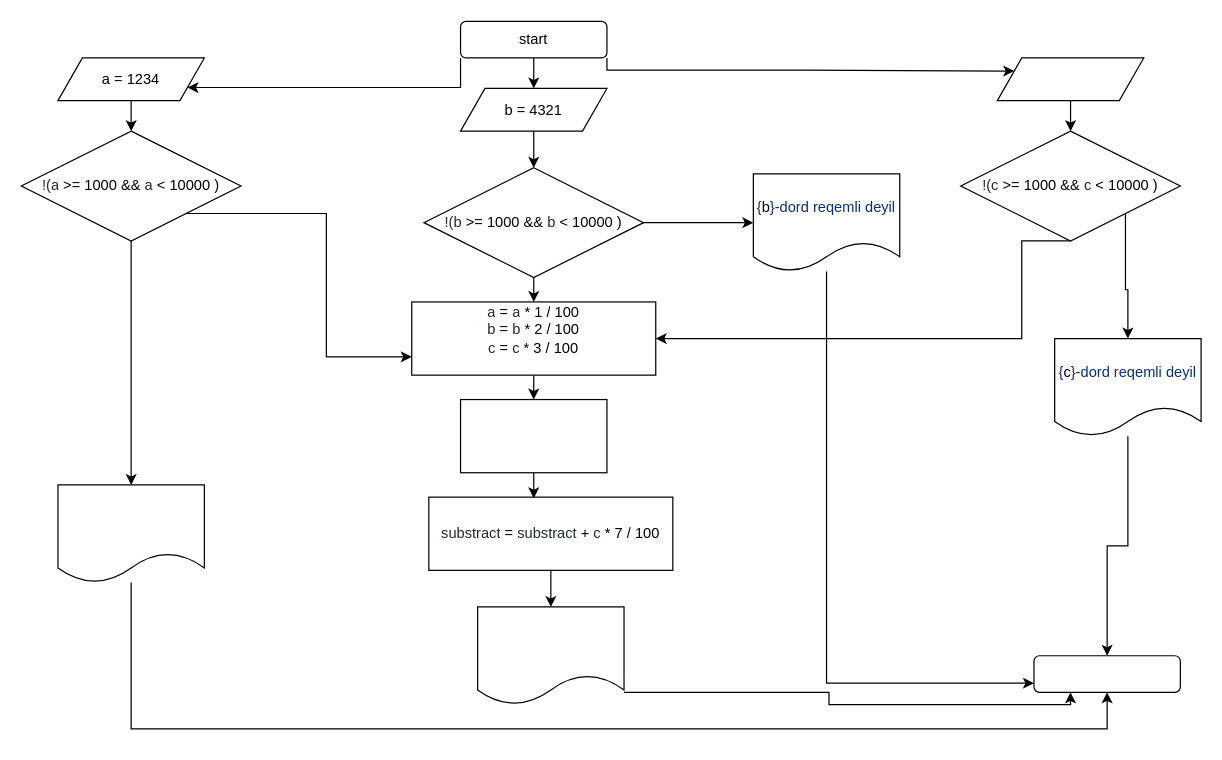
The diagram is 1222 pixels wide and 760 high, and some of its shapes have lost their labels. Each missing label, with the box of its shape:
c = 9999: (996, 57, 1144, 101)
end: (1033, 655, 1180, 692)
substract: (476, 606, 624, 705)
substract = a - b - c: (459, 398, 607, 473)
{ a }-dord reqemli deyil: (57, 484, 204, 583)
